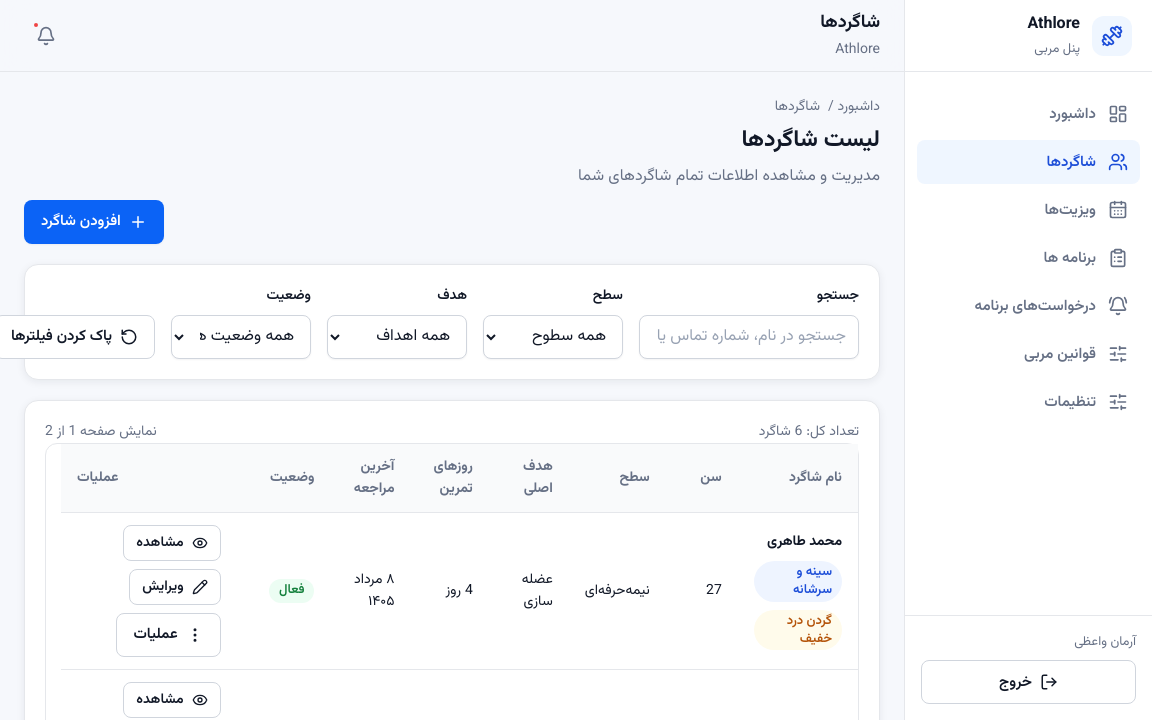
Test: StudentsListPage › searches students by name
Step 1. Type "سارا" into the field labelled "جستجو" → (749, 337), box [639,315,859,359]
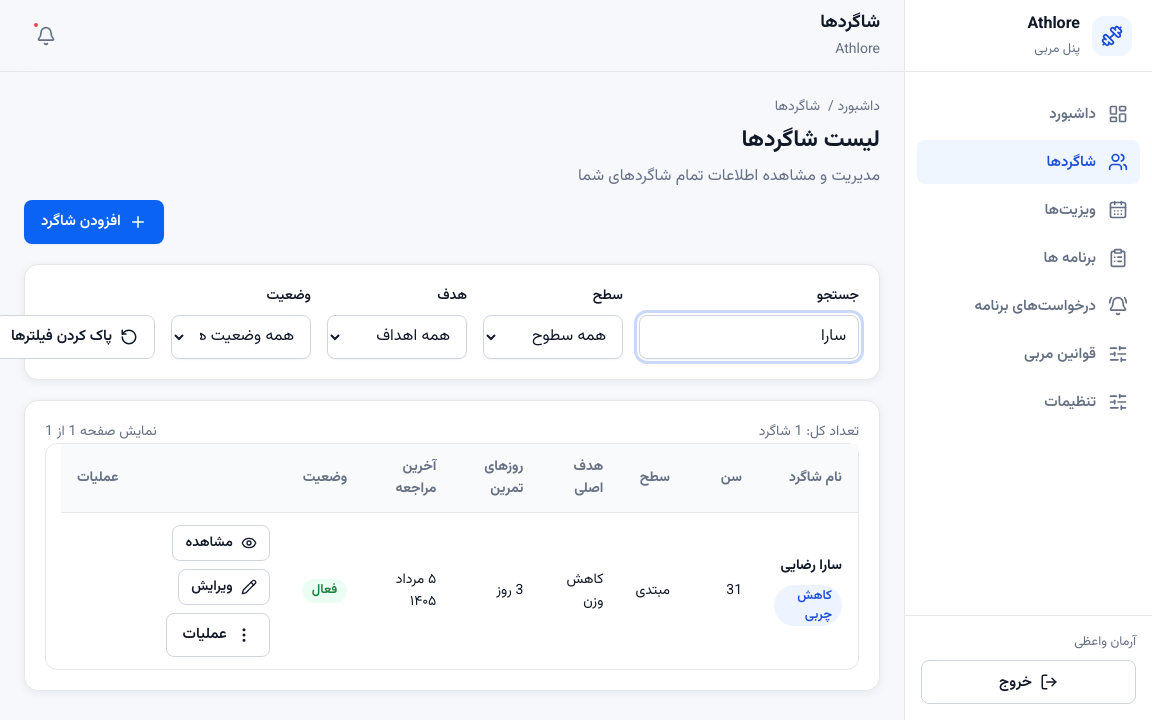
Now the text "محمد طاهری" is gone
